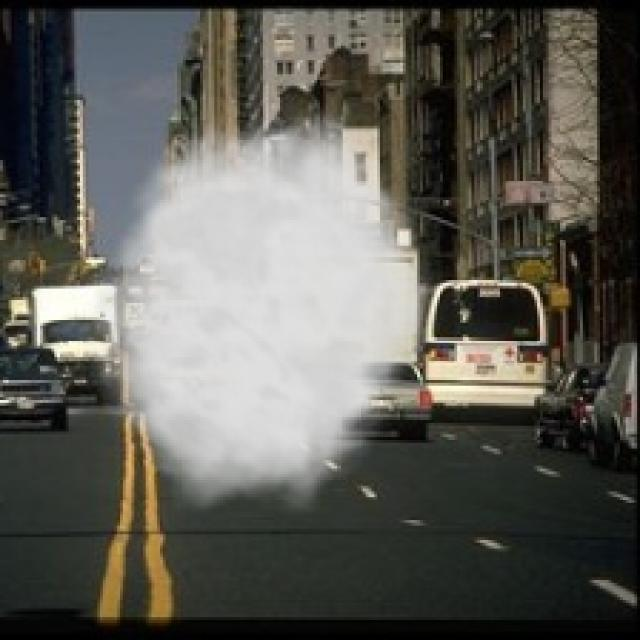smoke: (74, 97, 440, 514)
